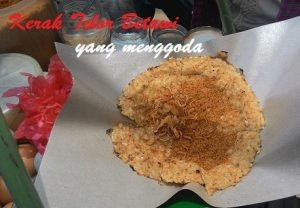kerak_telor: (109, 56, 266, 195)
